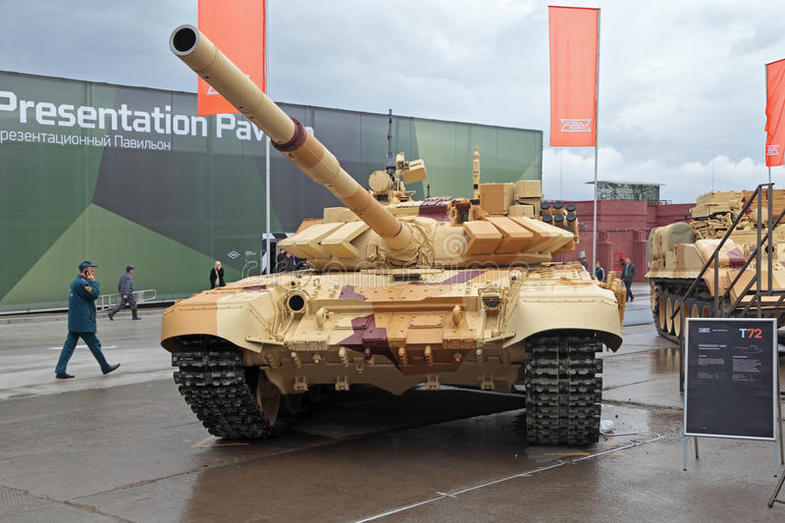t72: (168, 28, 610, 445)
